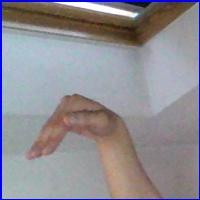del: (23, 89, 129, 173)
